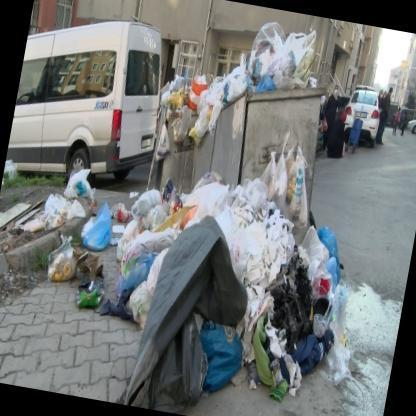Garbage: (19, 166, 378, 415), (98, 170, 179, 329), (222, 15, 322, 96), (209, 202, 291, 295), (290, 211, 368, 305), (251, 141, 320, 240), (158, 64, 244, 142), (166, 191, 214, 258), (22, 188, 80, 242), (42, 225, 83, 283), (85, 194, 121, 252), (58, 160, 104, 196), (172, 100, 194, 146), (154, 118, 171, 162)
